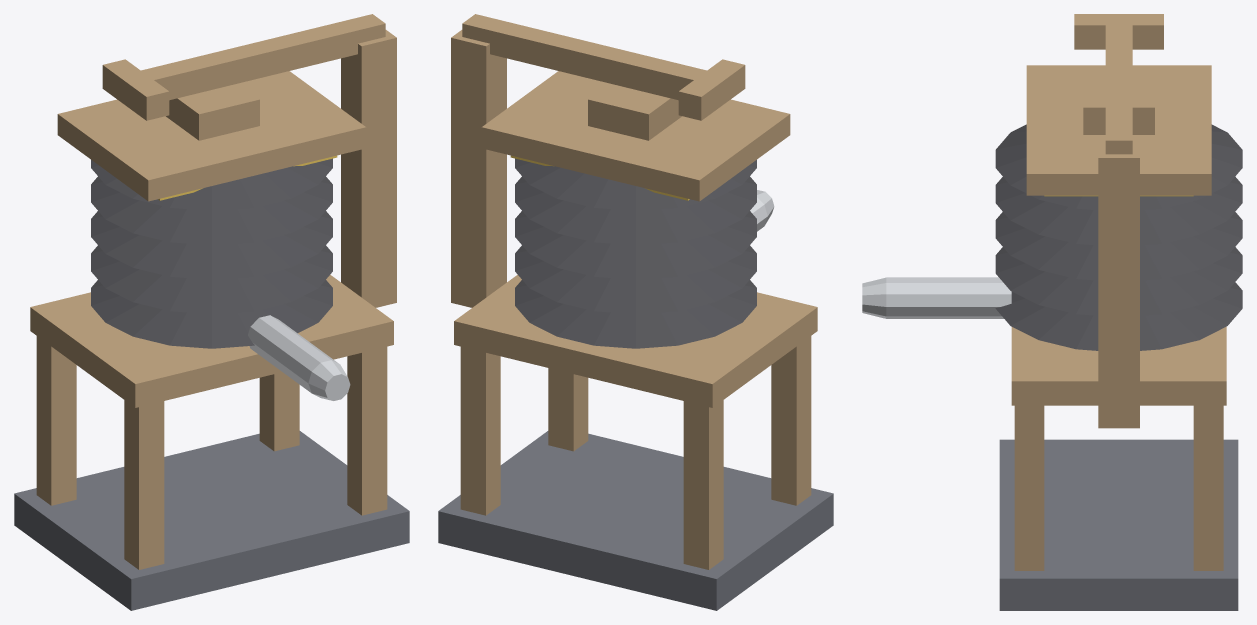
File: animated-mechanisms-kit-bellows-a9d9c2a1__24618.glb
3 views of the same model, side by side, from view 1: azimuth 30°, elevation 25°; view 2: azimuth 150°, elevation 25°; view 3: azimuth 270°, elevation 25° (orthographic). The views are drawn at different scales.
Visible parts, largest first — view 1: bellows, bellows/rubber, bellows/timber, lever; view 2: bellows, bellows/rubber, bellows/timber, lever; view 3: bellows, bellows/rubber, bellows/timber, lever.
Part boxes in pixels (bbox=[...]): bellows: bbox=[14, 30, 409, 610]; bellows/rubber: bbox=[91, 158, 332, 348]; bellows/timber: bbox=[57, 71, 366, 201]; lever: bbox=[102, 14, 385, 120]; bellows: bbox=[438, 30, 833, 610]; bellows/rubber: bbox=[515, 158, 756, 348]; bellows/timber: bbox=[481, 71, 790, 201]; lever: bbox=[462, 14, 745, 120]; bellows: bbox=[862, 140, 1238, 610]; bellows/rubber: bbox=[995, 124, 1242, 350]; bellows/timber: bbox=[1026, 65, 1211, 195]; lever: bbox=[1074, 14, 1163, 154].
Bounding box in the file's own units: 1.24 × 1.79 × 1.27.
